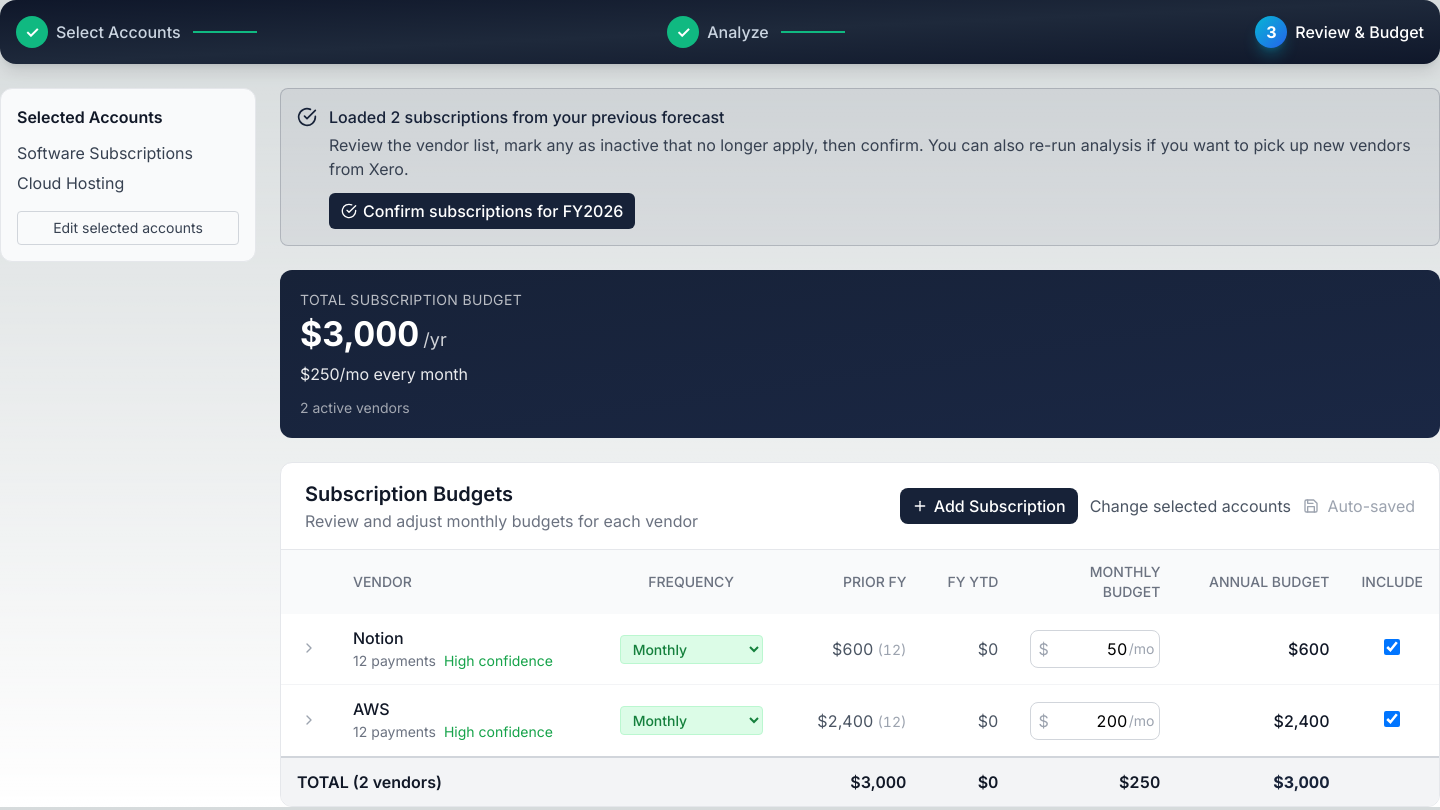
Test: UX-S6-01 — Step 6 sidebar with selected accounts › Test 2: Edit CTA returns to select-accounts phase
Check: the heading "Subscription Budgets" is shown, box [305,482,513,506]
Click the button "Edit selected accounts".
click(128, 228)  # box [17,211,239,245]
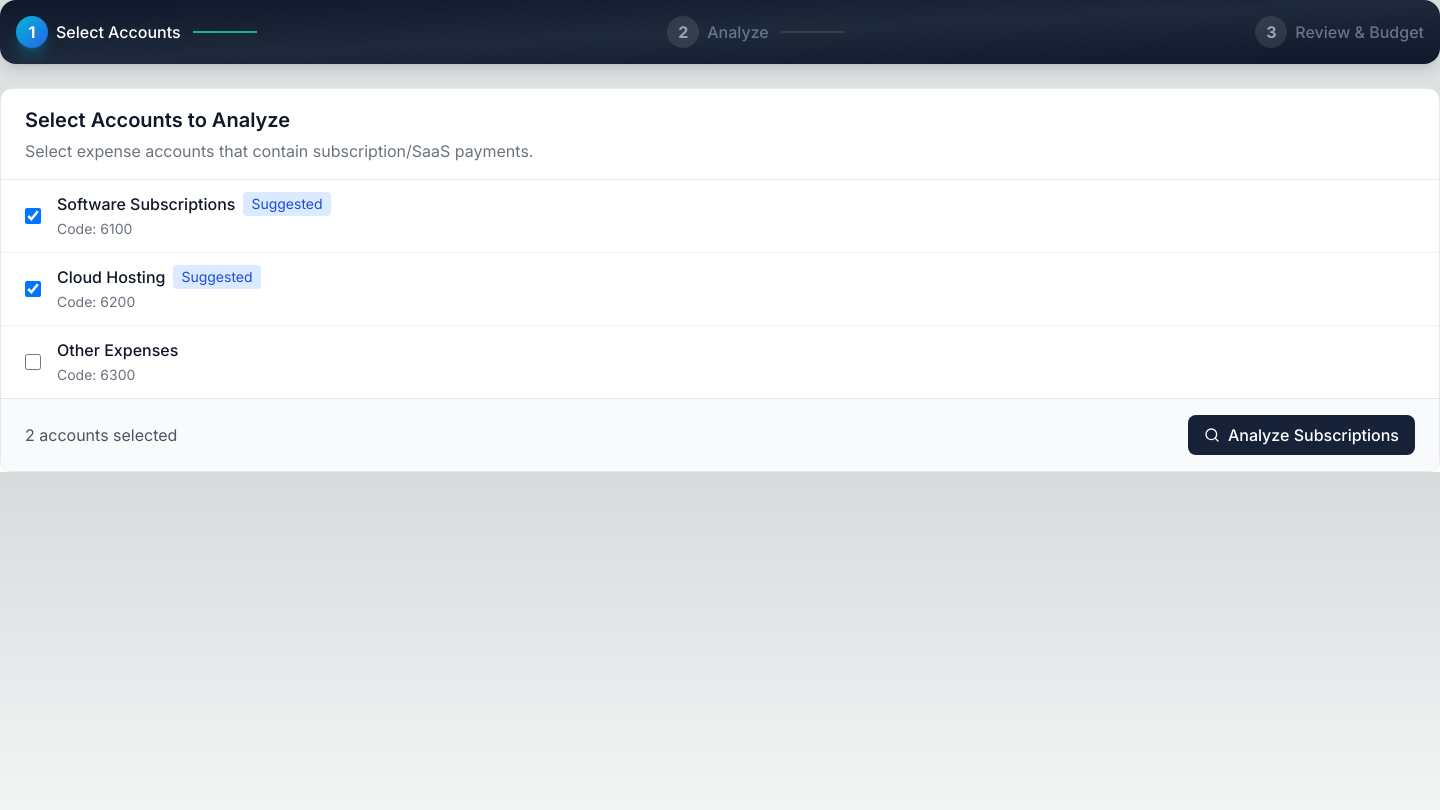
Check: the heading "Select Accounts to Analyze" is shown, box [25,108,290,132]
Check: the heading "Selected Accounts" is gone
